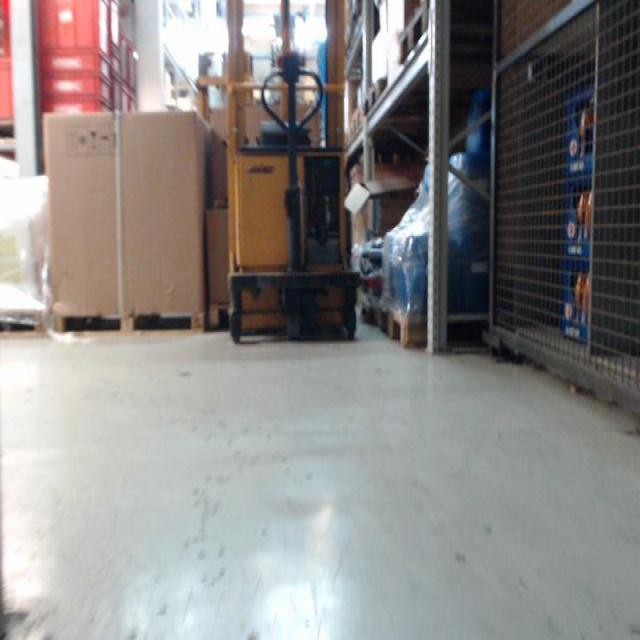pallet: (51, 310, 208, 336), (380, 308, 445, 350), (398, 0, 430, 67), (0, 310, 48, 340), (365, 78, 382, 118), (350, 107, 362, 135)
pallet_truck: (225, 4, 362, 343)
